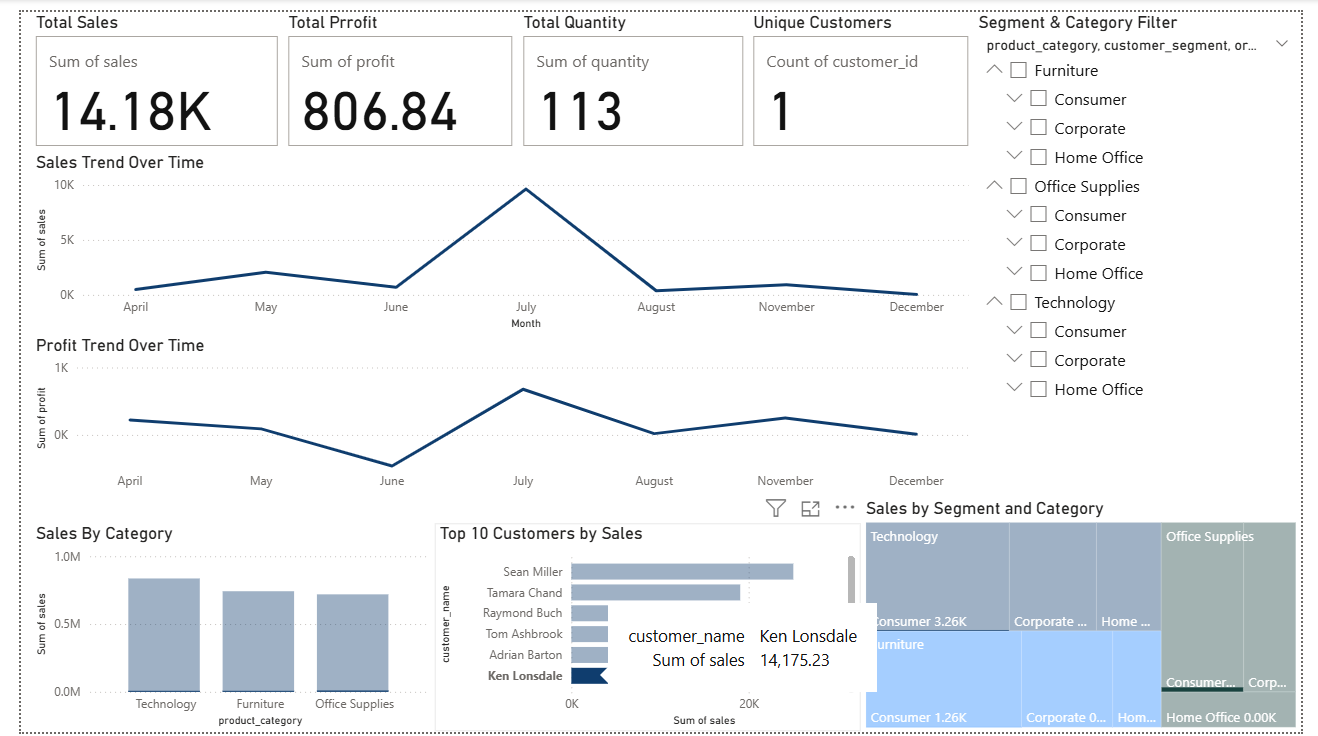

Layout of this report page (visuals, bound fields, positions):
{"tool":"powerbi","page":{"name":"Page 1","canvas":[1280,720],"ordinal":0},"visuals":[{"type":"cardVisual","title":"Total Sales","fields":{"Data":["Sum(public vw_sales_analysis.sales)"]},"box":[10,0,252.9,140],"z":0},{"type":"cardVisual","title":"Total Prrofit","fields":{"Data":["Sum(public vw_sales_analysis.profit)"]},"box":[262.9,0,234.3,140],"z":1000},{"type":"cardVisual","title":"Total Quantity","fields":{"Data":["Sum(public vw_sales_analysis.quantity)"]},"box":[497.1,0,230,140],"z":2000},{"type":"cardVisual","title":"Unique Customers","fields":{"Data":["Count(public vw_sales_analysis.customer_id)"]},"box":[727.1,0,225.7,140],"z":3000},{"type":"lineChart","title":"Sales Trend Over Time","fields":{"Y":["Sum(public vw_sales_analysis.sales)"],"Category":["public vw_sales_analysis.order_date.Variation.Date Hierarchy.Year","public vw_sales_analysis.order_date.Variation.Date Hierarchy.Quarter","public vw_sales_analysis.order_date.Variation.Date Hierarchy.Month","public vw_sales_analysis.order_date.Variation.Date Hierarchy.Day"]},"box":[10,140,942.9,182.9],"z":4000},{"type":"lineChart","title":"Profit Trend Over Time ","fields":{"Category":["public vw_sales_analysis.order_date.Variation.Date Hierarchy.Year","public vw_sales_analysis.order_date.Variation.Date Hierarchy.Quarter","public vw_sales_analysis.order_date.Variation.Date Hierarchy.Month","public vw_sales_analysis.order_date.Variation.Date Hierarchy.Day"],"Y":["Sum(public vw_sales_analysis.profit)"]},"box":[10,322.9,942.9,164.3],"z":5000},{"type":"clusteredColumnChart","title":"Sales By Category","fields":{"Y":["Sum(public vw_sales_analysis.sales)"],"Category":["public vw_sales_analysis.product_category"]},"box":[10,511.4,404.3,208.6],"z":6000},{"type":"barChart","title":"Top 10 Customers by Sales","fields":{"Category":["public vw_sales_analysis.customer_name"],"Y":["Sum(public vw_sales_analysis.sales)"]},"box":[414.3,511.4,425.7,208.6],"z":7000},{"type":"slicer","title":"Segment & Category Filter","fields":{"Values":["public vw_sales_analysis.product_category","public vw_sales_analysis.customer_segment","public vw_sales_analysis.order_quarter","public vw_sales_analysis.order_year"]},"box":[952.5,0,327.5,486.2],"z":8000},{"type":"treemap","title":"Sales by Segment and Category","fields":{"Group":["public vw_sales_analysis.product_category"],"Values":["Sum(public vw_sales_analysis.sales)"],"Details":["public vw_sales_analysis.customer_segment"]},"box":[840,485.7,440,234.3],"z":9000}]}

Visuals, with their boxes in screenshot pixels (x1, y1, x2, y2), scaled from the page's 1280x720 canvas onto the 1318x736 screenshot:
"Total Sales" cardVisual: detection(10, 0, 271, 143)
"Total Prrofit" cardVisual: detection(271, 0, 512, 143)
"Total Quantity" cardVisual: detection(512, 0, 749, 143)
"Unique Customers" cardVisual: detection(749, 0, 981, 143)
"Sales Trend Over Time" lineChart: detection(10, 143, 981, 330)
"Profit Trend Over Time " lineChart: detection(10, 330, 981, 498)
"Sales By Category" clusteredColumnChart: detection(10, 523, 427, 735)
"Top 10 Customers by Sales" barChart: detection(427, 523, 865, 735)
"Segment & Category Filter" slicer: detection(981, 0, 1317, 497)
"Sales by Segment and Category" treemap: detection(865, 496, 1317, 735)
